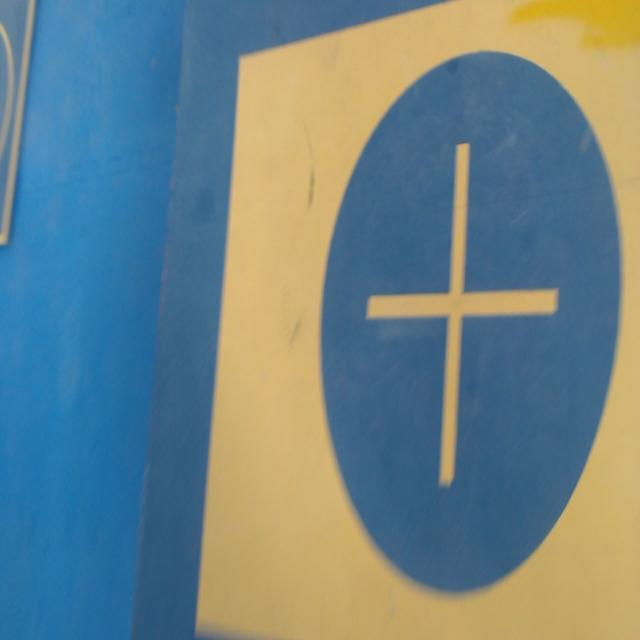base_inicio: (195, 0, 640, 639)
base_pouso: (0, 0, 38, 246)
